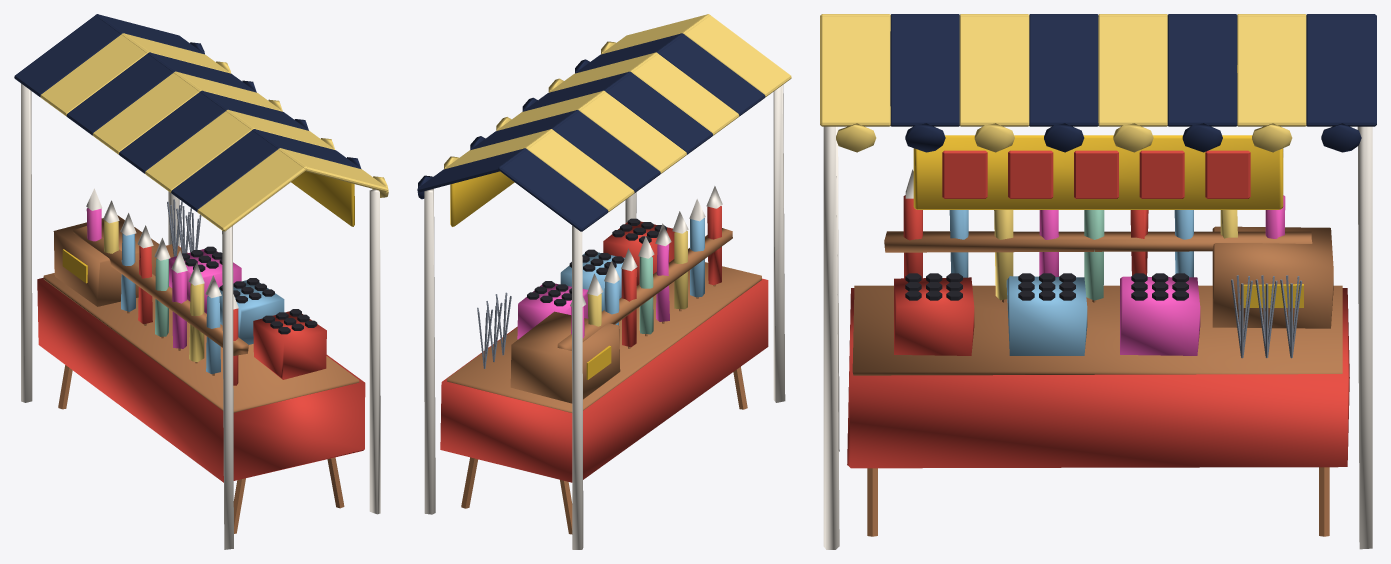
File: fireworks_stand.glb
3 renders of one model, left to right at view 1: azimuth 30°, elevation 25°; view 2: azimuth 150°, elevation 25°; view 3: azimuth 270°, elevation 25°, orthographic. The views are drawn at different scales.
Visible parts, largest first — view 1: fireworks_stand; view 2: fireworks_stand; view 3: fireworks_stand.
Part boxes in pixels (x1,y1,x2,y2): fireworks_stand: (14,14,388,549); fireworks_stand: (417,14,791,549); fireworks_stand: (820,14,1376,549).
Bounding box in the file's own units: 1.3 × 2.61 × 2.71.
1 material, 1 textured.
